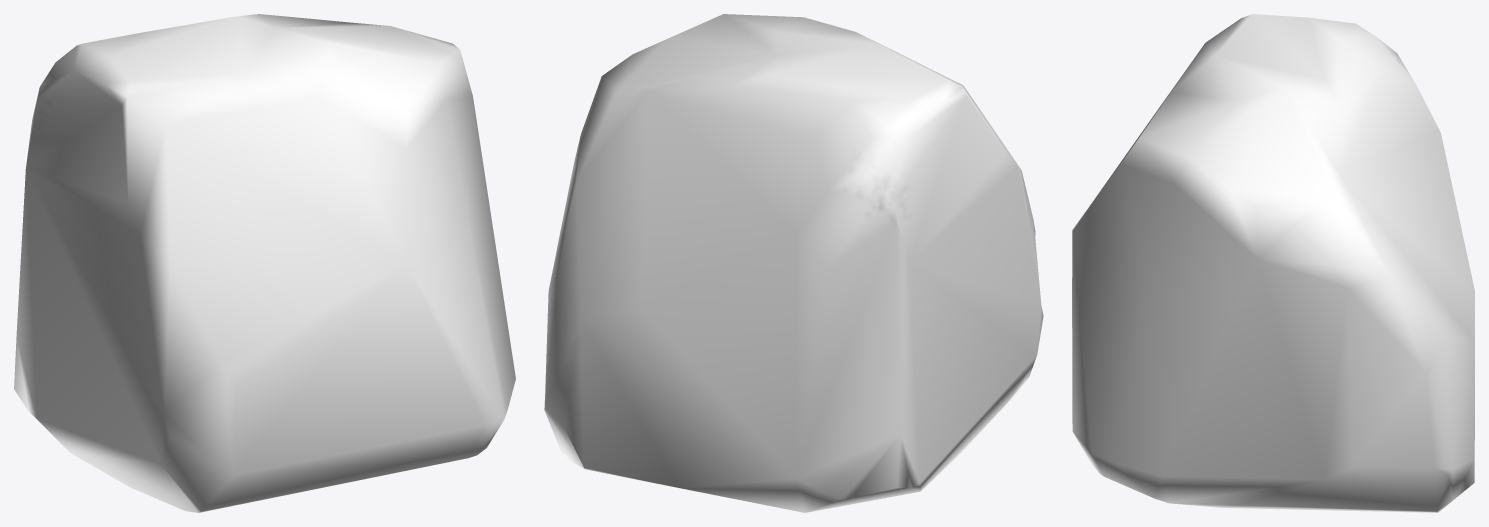
The model's file is SM_RefinedMetal_3c.fbx.
3 renders of one model, left to right at view 1: azimuth 30°, elevation 25°; view 2: azimuth 150°, elevation 25°; view 3: azimuth 270°, elevation 25°, orthographic. The views are drawn at different scales.
Parts seen in each view (by area): view 1: RefinedMetal_3c; view 2: RefinedMetal_3c; view 3: RefinedMetal_3c.
Boxes of the visible parts, bbox=[...] form: RefinedMetal_3c: bbox=[14, 14, 515, 512]; RefinedMetal_3c: bbox=[544, 14, 1043, 512]; RefinedMetal_3c: bbox=[1072, 14, 1474, 512].
Size of the model in its own units: 0.3039 by 0.3084 by 0.3084.
